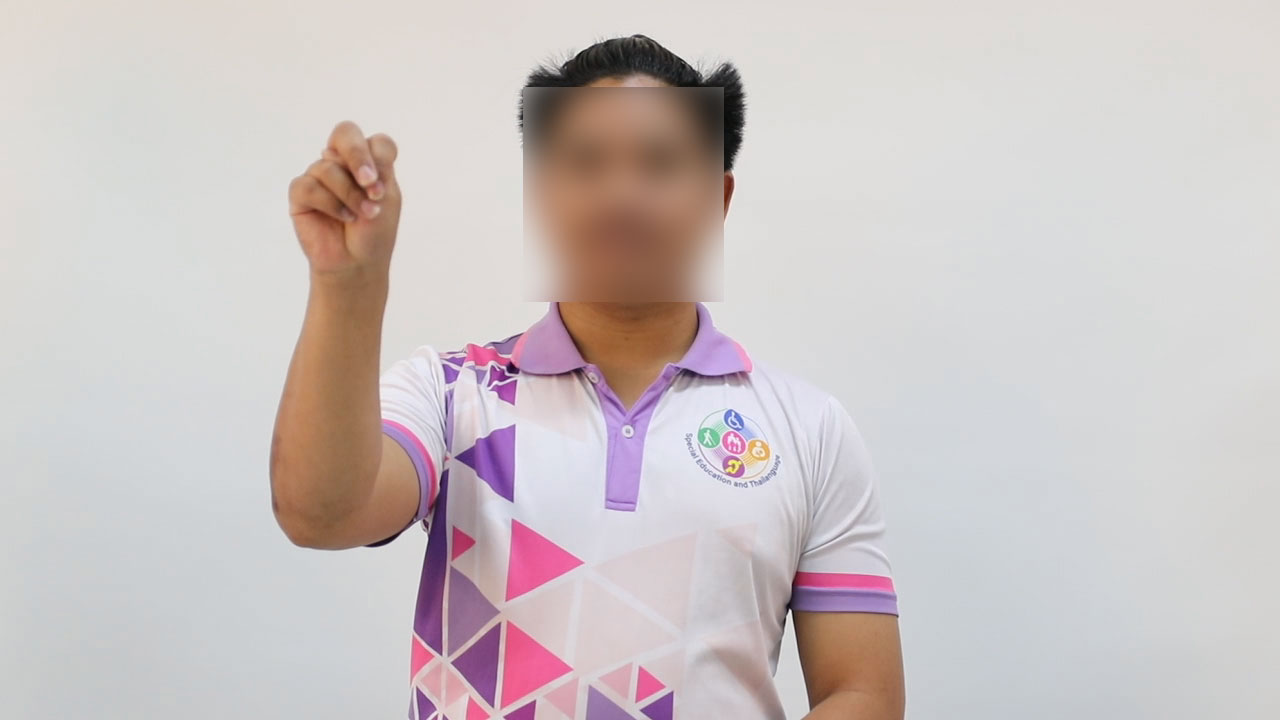nor: (281, 112, 413, 288)
